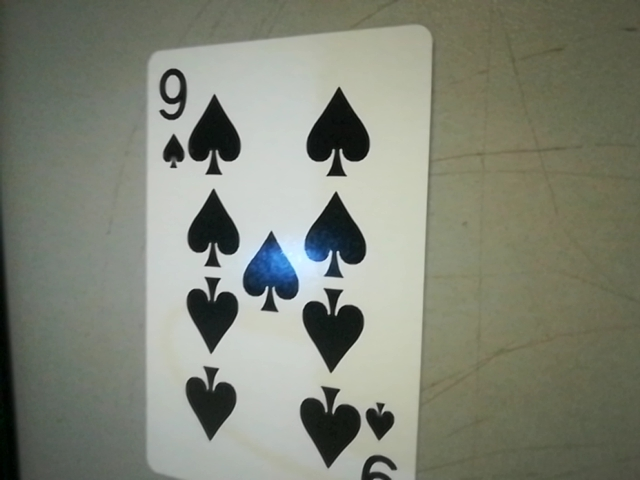ht 9: (141, 58, 197, 173), (351, 395, 414, 480)
